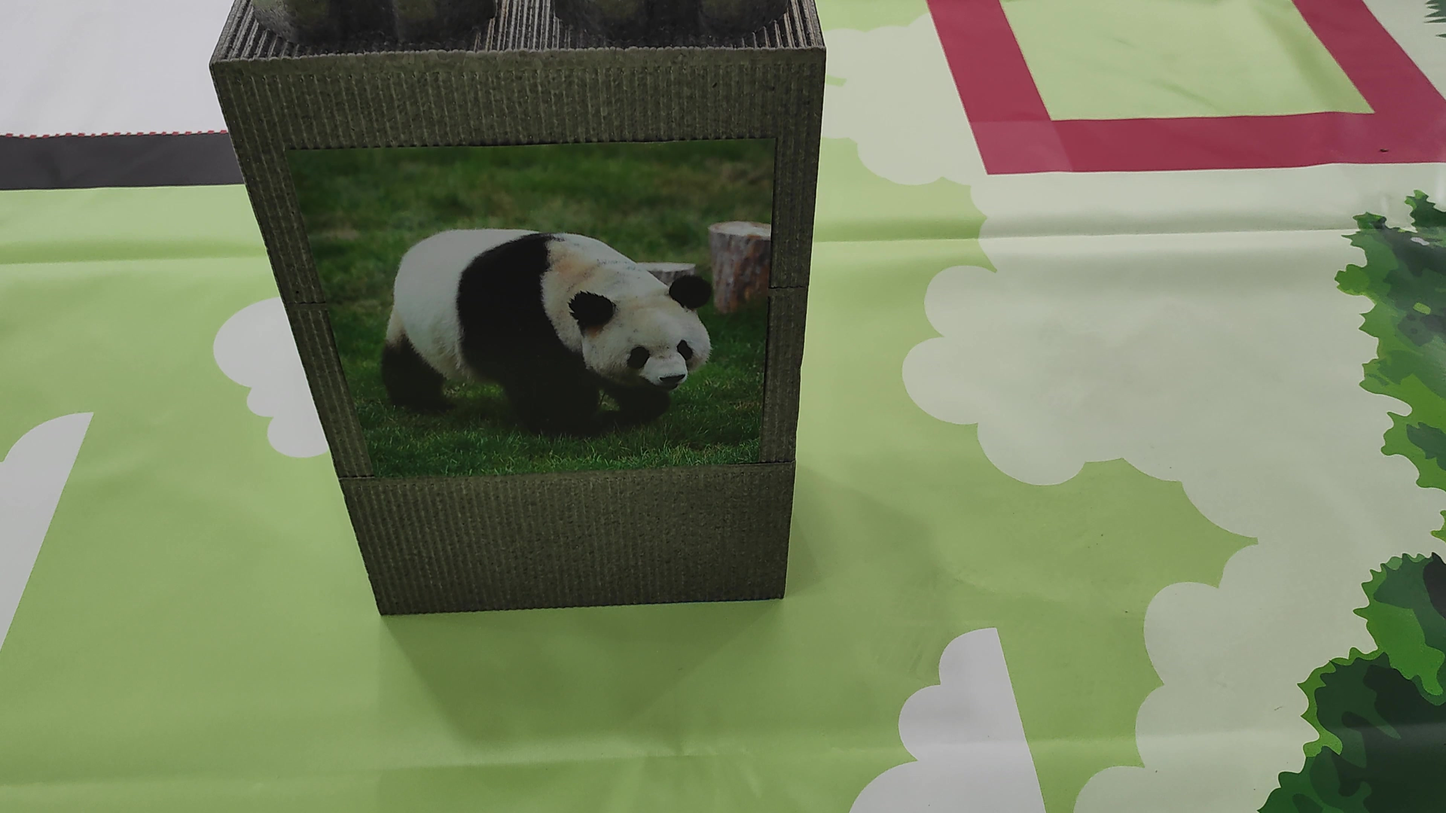panda: (368, 192, 731, 448)
